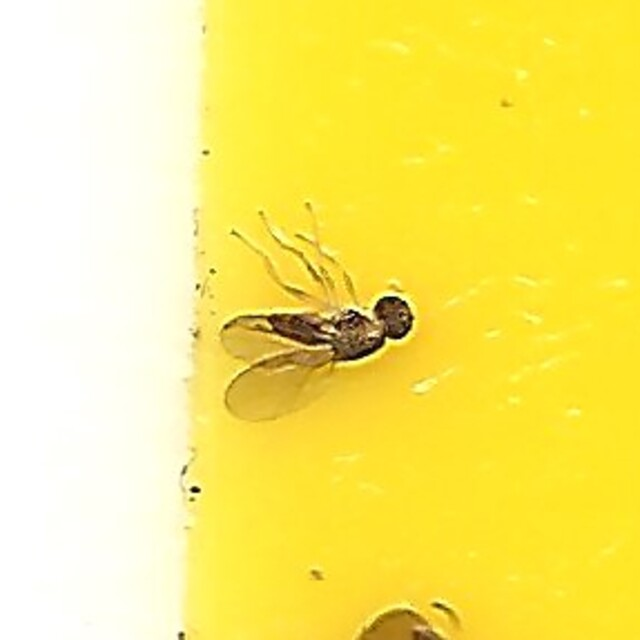Brachycera: (223, 213, 417, 427)
